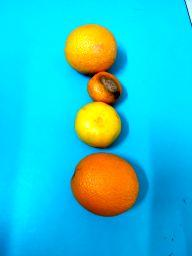orange: (70, 151, 140, 217), (64, 22, 118, 77), (74, 100, 123, 150), (86, 71, 122, 105)
